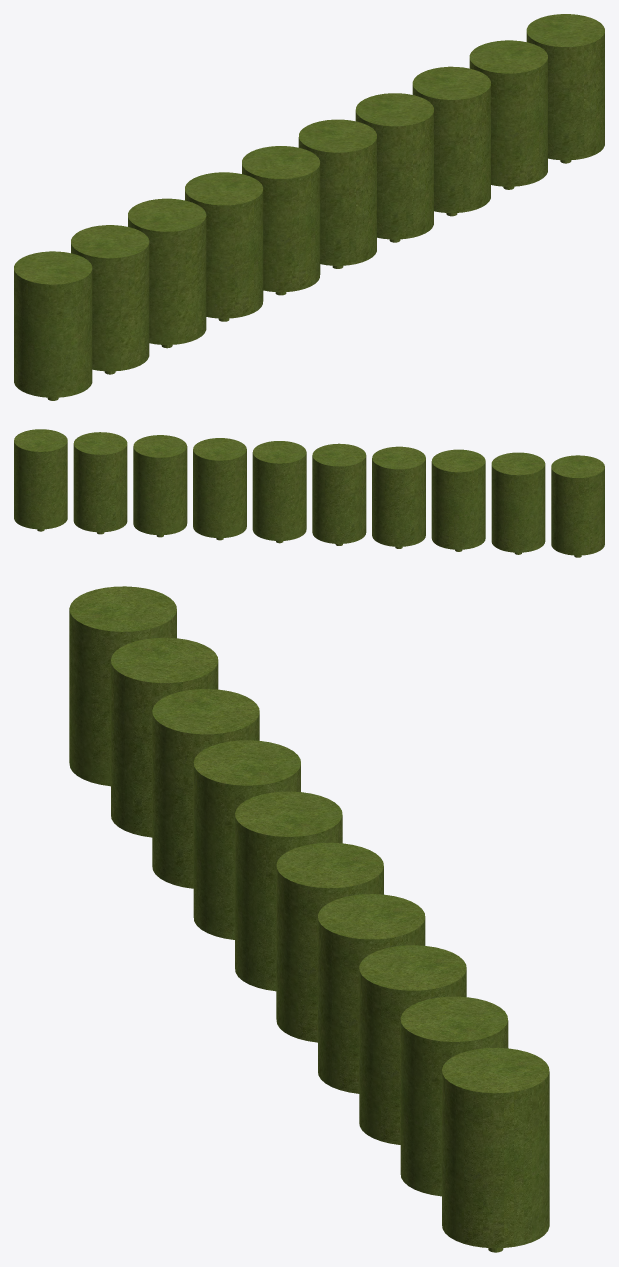
Rendered from Haie.glb.
3 views of the same model, one above another, from view 1: azimuth 30°, elevation 25°; view 2: azimuth 150°, elevation 25°; view 3: azimuth 270°, elevation 25° (orthographic). The views are drawn at different scales.
Visible parts, largest first — view 1: GN_Plants_Hedges_Rough-1m_01.001; view 2: GN_Plants_Hedges_Rough-1m_01.001; view 3: GN_Plants_Hedges_Rough-1m_01.001.
Part boxes in pixels (x1,y1,x2,y2): GN_Plants_Hedges_Rough-1m_01.001: (14, 14, 604, 400); GN_Plants_Hedges_Rough-1m_01.001: (14, 429, 604, 557); GN_Plants_Hedges_Rough-1m_01.001: (69, 586, 549, 1252).
Bounding box in the file's own units: 8.04 × 1.62 × 3.41.
1 material, 1 textured.
